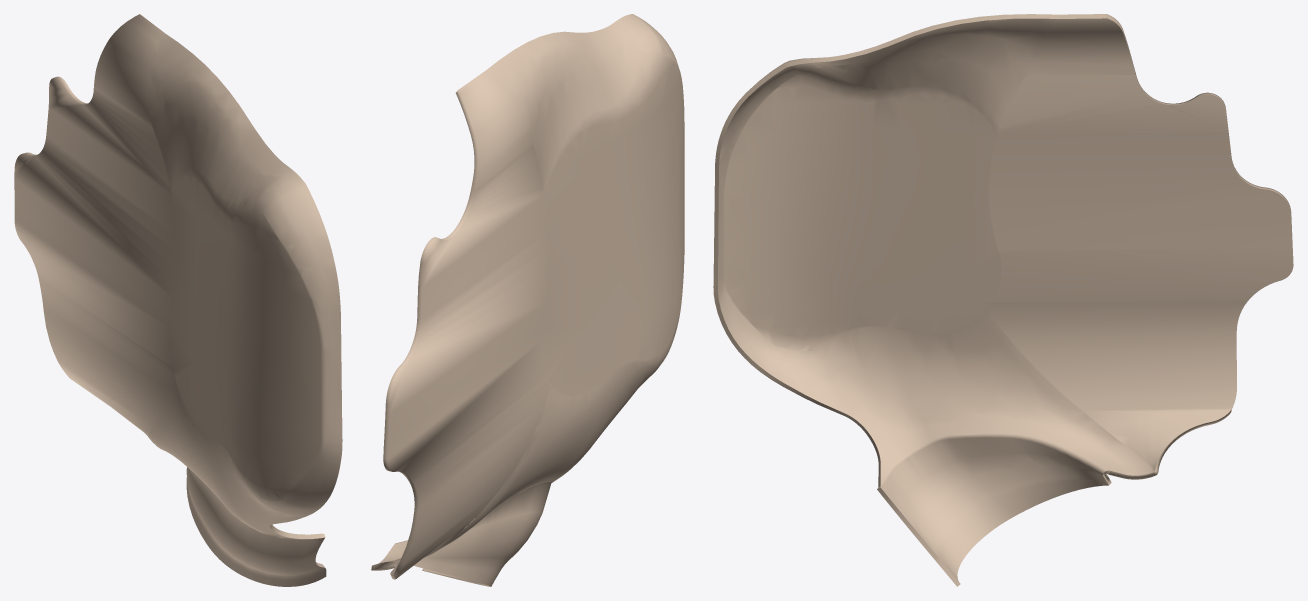
File: r_hand_H_2.obj
3 views of the same model, side by side, from view 1: azimuth 30°, elevation 25°; view 2: azimuth 150°, elevation 25°; view 3: azimuth 270°, elevation 25° (orthographic). The views are drawn at different scales.
Size of the model in its own units: 37.19 by 127 by 128.
